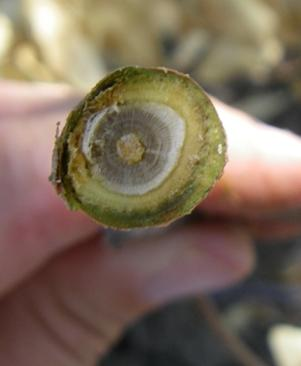Verticillium wilt: (80, 102, 184, 196)
